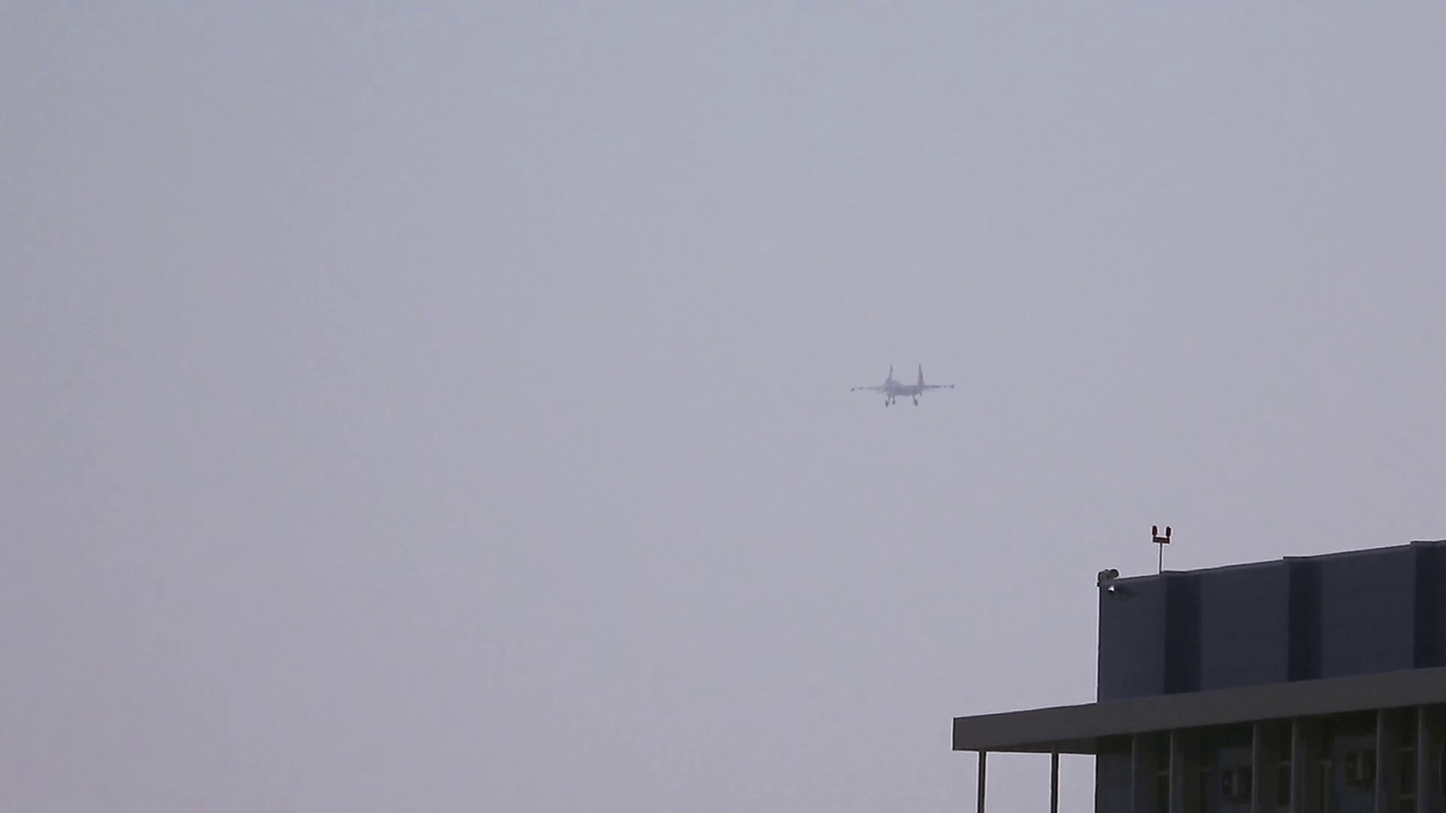Su35: (850, 364, 955, 407)
